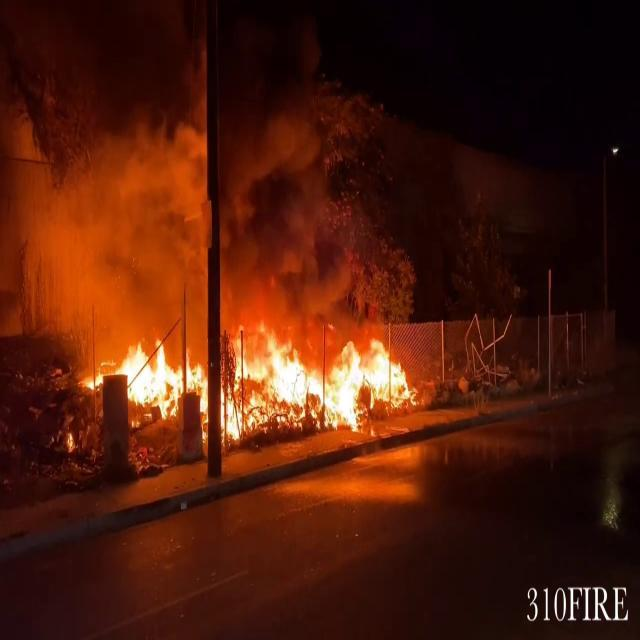Fire: (97, 314, 417, 436)
Smoke: (0, 39, 338, 322)
